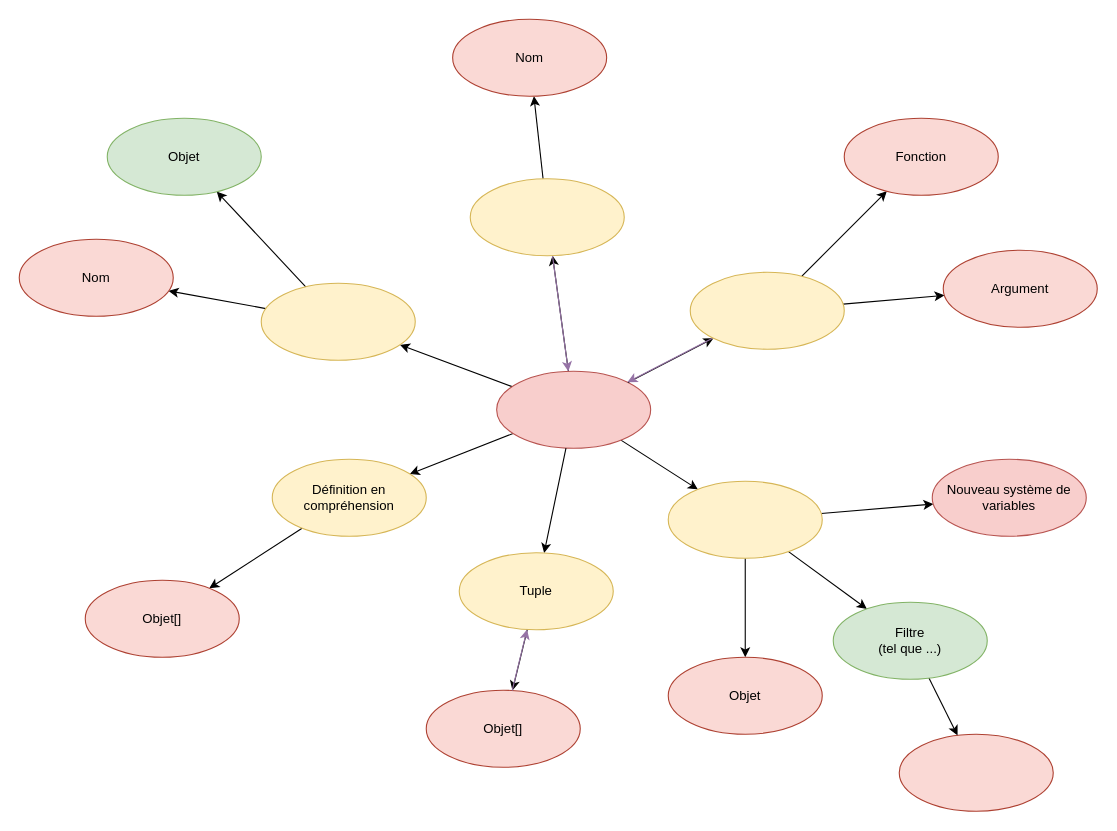
This 1117x831 diagram has some shape labels left out. Each missing label, with the centre of its shape:
"Appel d'une fonction" belongs at (766,310).
"Booléen" belongs at (975,772).
"Définition d'une fonction" belongs at (744,519).
"Expression" belongs at (573,409).
"Propriété" belongs at (337,321).
"Symbole" belongs at (546,217).
